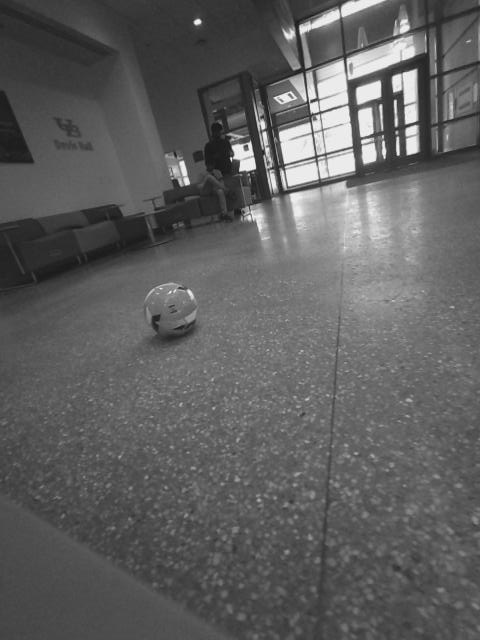ball: (139, 277, 207, 343)
